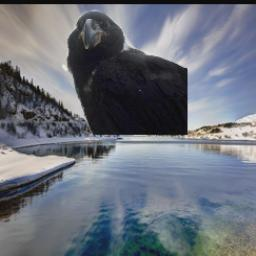Crow: (65, 9, 189, 135)
